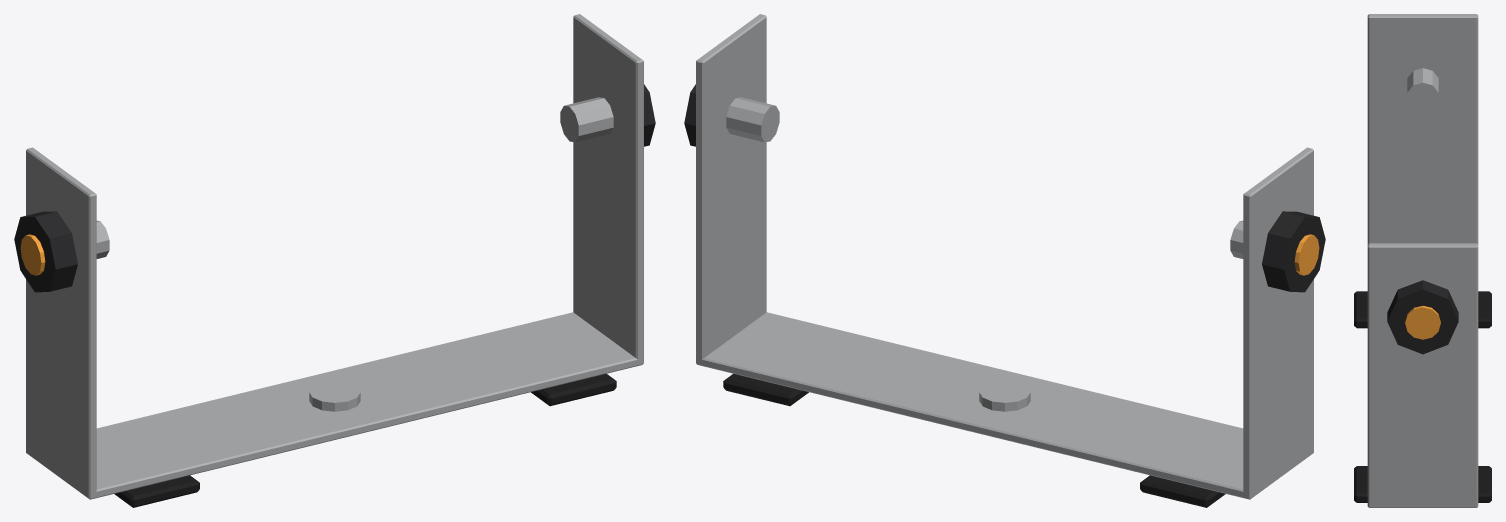
The model's file is csc_lasercore_l1_base.obj.
3 renders of one model, left to right at view 1: azimuth 30°, elevation 25°; view 2: azimuth 150°, elevation 25°; view 3: azimuth 270°, elevation 25°, orthographic. The views are drawn at different scales.
Parts seen in each view (by area): view 1: base_csc_adafb1, base_csc_272729, base_csc_1d1d1d, base_csc_f9a238; view 2: base_csc_adafb1, base_csc_272729, base_csc_1d1d1d, base_csc_f9a238; view 3: base_csc_adafb1, base_csc_272729, base_csc_1d1d1d, base_csc_f9a238.
Boxes of the visible parts, x1=… form: base_csc_adafb1: x1=26, y1=14, x2=643, y2=499; base_csc_272729: x1=14, y1=84, x2=655, y2=292; base_csc_1d1d1d: x1=114, y1=373, x2=616, y2=507; base_csc_f9a238: x1=20, y1=234, x2=45, y2=275; base_csc_adafb1: x1=696, y1=14, x2=1313, y2=499; base_csc_272729: x1=684, y1=84, x2=1325, y2=292; base_csc_1d1d1d: x1=723, y1=373, x2=1225, y2=507; base_csc_f9a238: x1=1294, y1=234, x2=1319, y2=275; base_csc_adafb1: x1=1367, y1=14, x2=1478, y2=507; base_csc_272729: x1=1387, y1=280, x2=1458, y2=354; base_csc_1d1d1d: x1=1354, y1=291, x2=1491, y2=502; base_csc_f9a238: x1=1405, y1=306, x2=1440, y2=339.
Size of the model in its own units: 0.9636 by 0.4796 by 0.2202.
